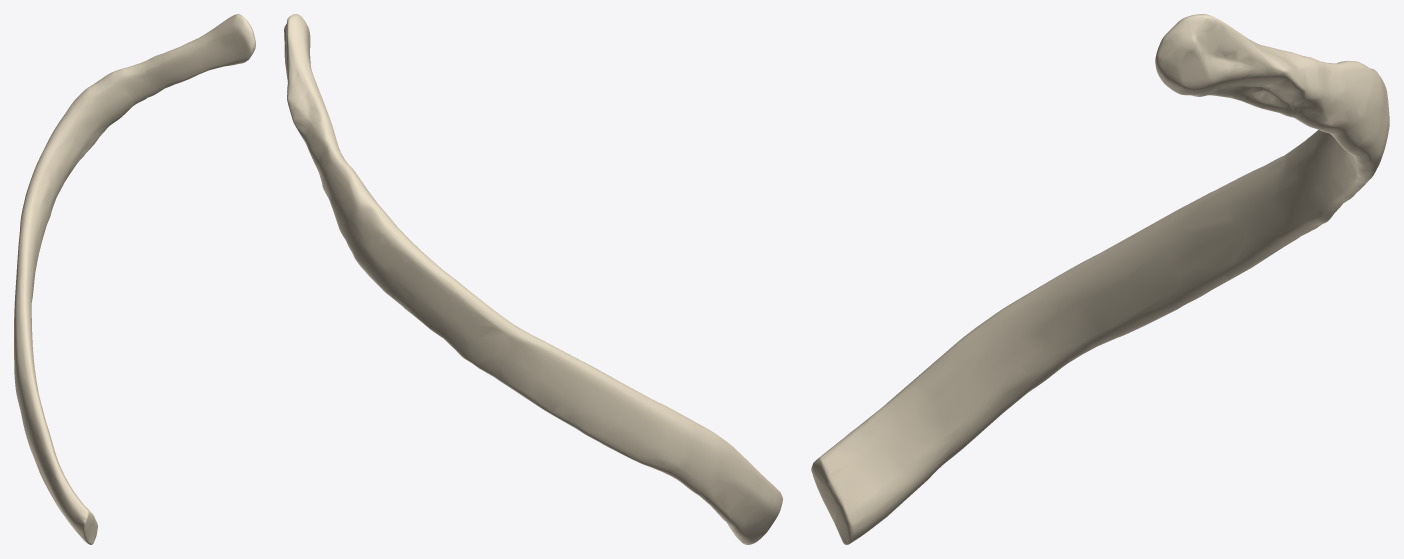
The model's file is tenth-rib-r.glb.
The picture shows the model from 3 angles, left to right: view 1: azimuth 30°, elevation 25°; view 2: azimuth 150°, elevation 25°; view 3: azimuth 270°, elevation 25°; orthographic projection. The views are drawn at different scales.
Parts seen in each view (by area): view 1: Tenth rib.r; view 2: Tenth rib.r; view 3: Tenth rib.r.
Part boxes in pixels (x1=…): Tenth rib.r: x1=14, y1=14, x2=255, y2=544; Tenth rib.r: x1=284, y1=14, x2=782, y2=544; Tenth rib.r: x1=811, y1=14, x2=1389, y2=544.
Bounding box in the file's own units: 0.1129 × 0.1568 × 0.1094.
